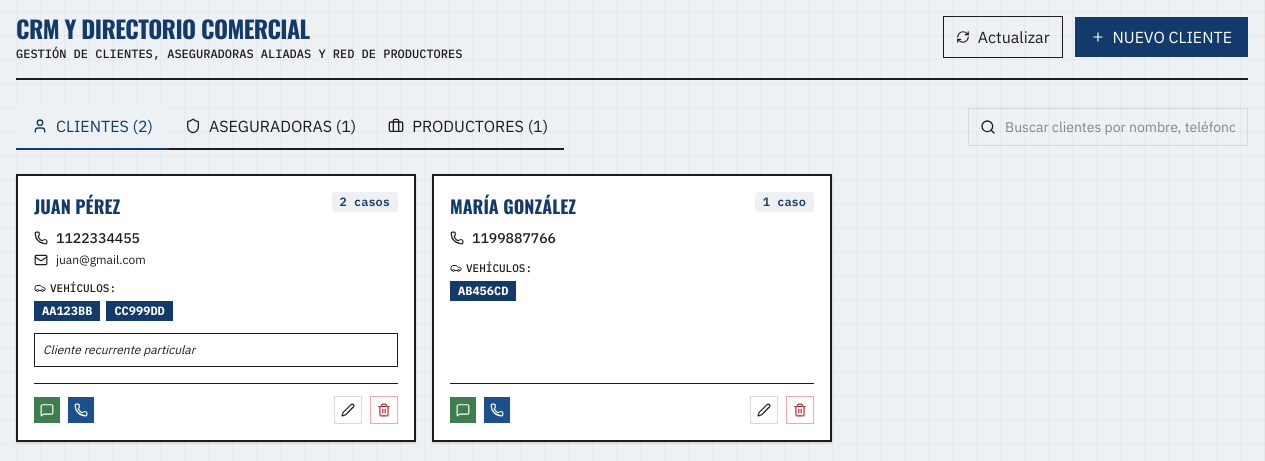
it: CRMPage › filtra clientes mediante el buscador
The image size is (1265, 461).
Check: the heading "Juan Pérez" is shown, box [34, 192, 120, 220]
Type "María" into the field with placeholder "Buscar clientes por nombre, teléfono o patente..." at (1108, 127), box [968, 108, 1248, 146]
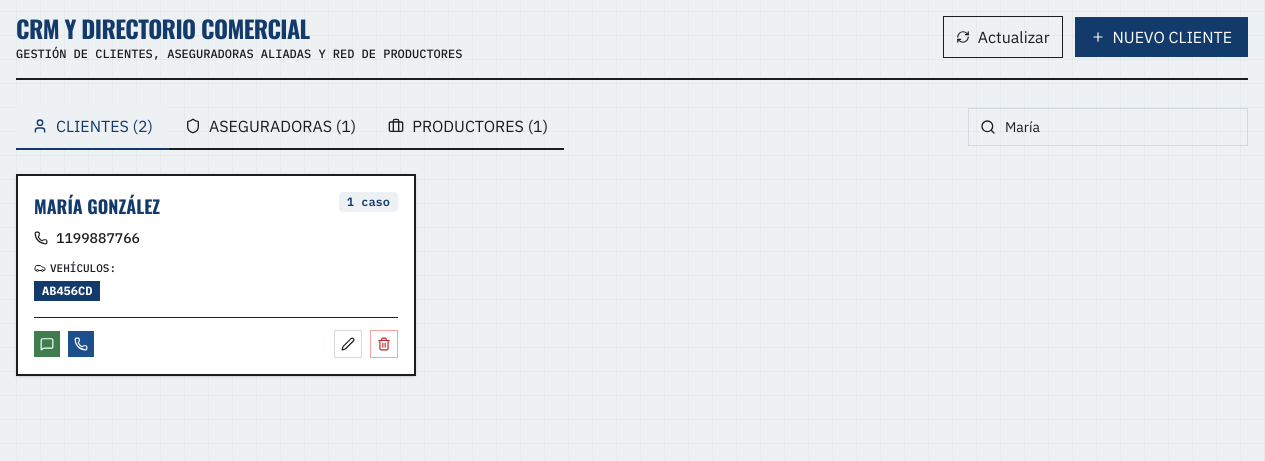
Check: the heading "María González" is shown, box [34, 192, 160, 220]
Check: the heading "Juan Pérez" is gone
